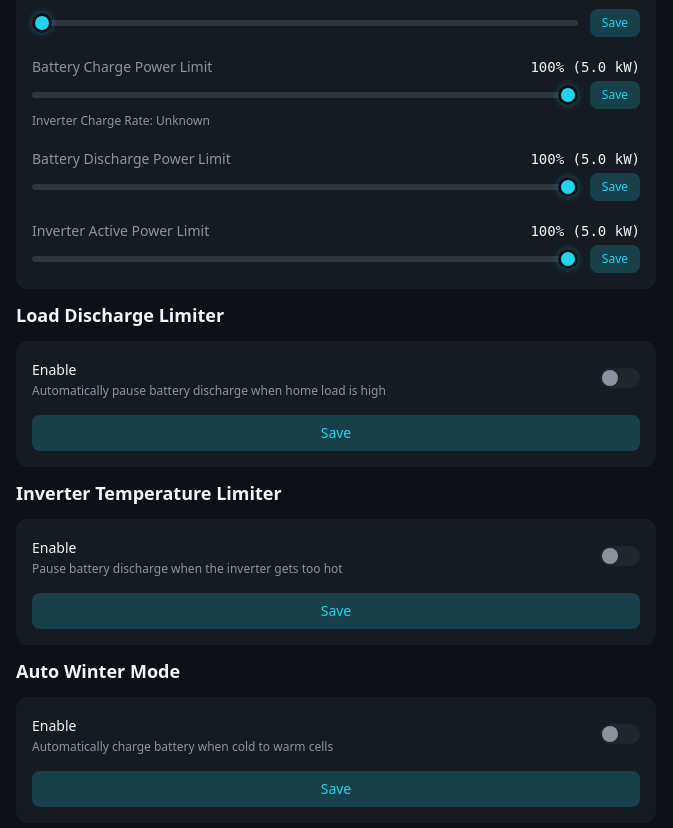
Scenario: <ControlPage/> — Load Discharge Limiter status (issue #158) › hides disabled feature settings and reveals them when toggled on
The image size is (673, 828).
(page scrolled)
Check: the text "Load Threshold" is not shown
Check: the button "Save" below "Load Discharge Limiter" is shown, box [32,415,640,451]
Click the switch named "Enable Load Discharge Limiter" at (620, 378), box [600,368,640,388]
(page scrolled)
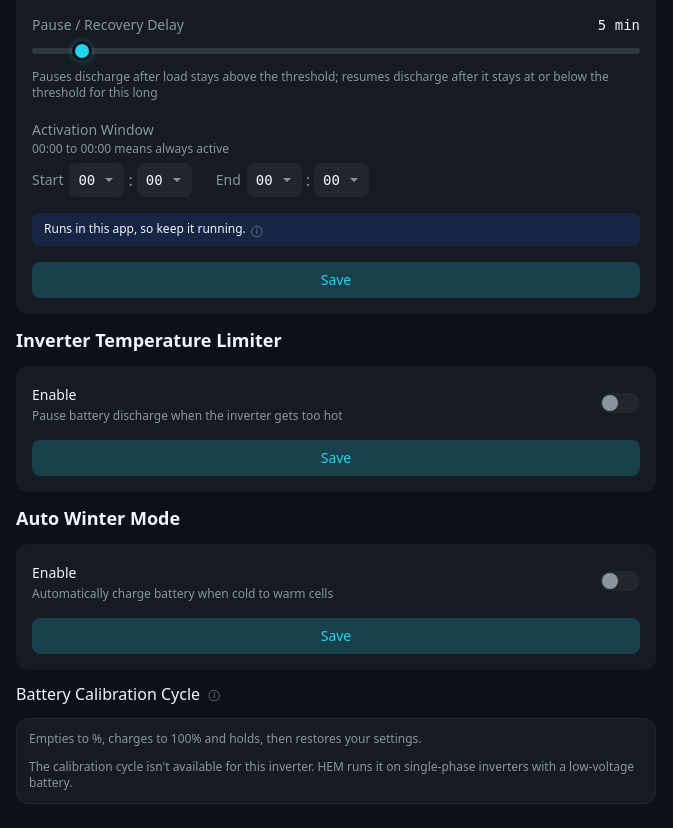
Click the switch named "Enable Inverter Temperature Limiter" at (620, 403), box [600,393,640,413]
(page scrolled)
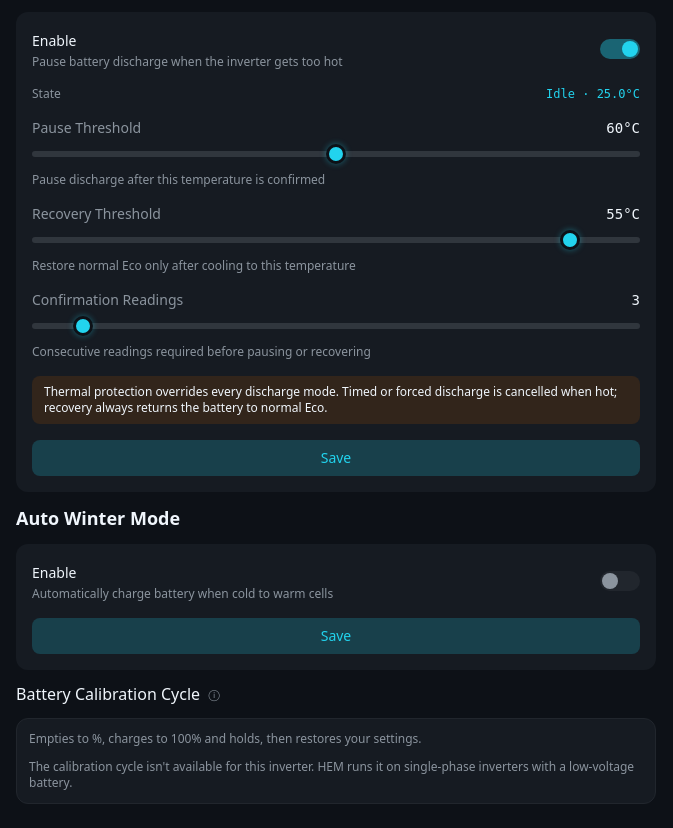
Click the switch named "Enable Auto Winter Mode" at (620, 581), box [600,571,640,591]
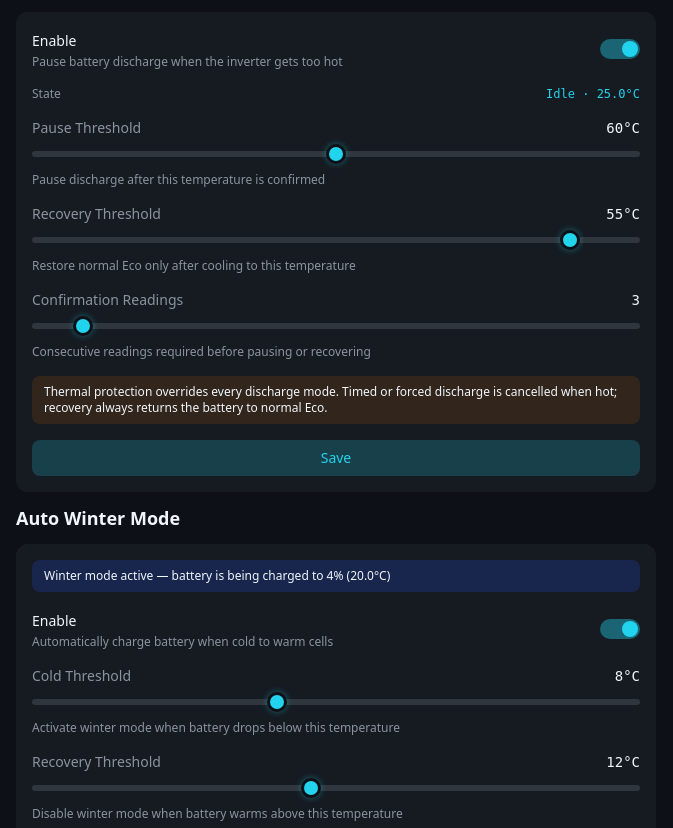
Check: the text "Pause Threshold" is shown, box [32,118,141,138]
Check: the text "Cold Threshold" is shown, box [32,666,131,686]
Check: the text "Winter mode active — battery is being charged to 4% (20.0°C)" is shown, box [32,560,640,592]
